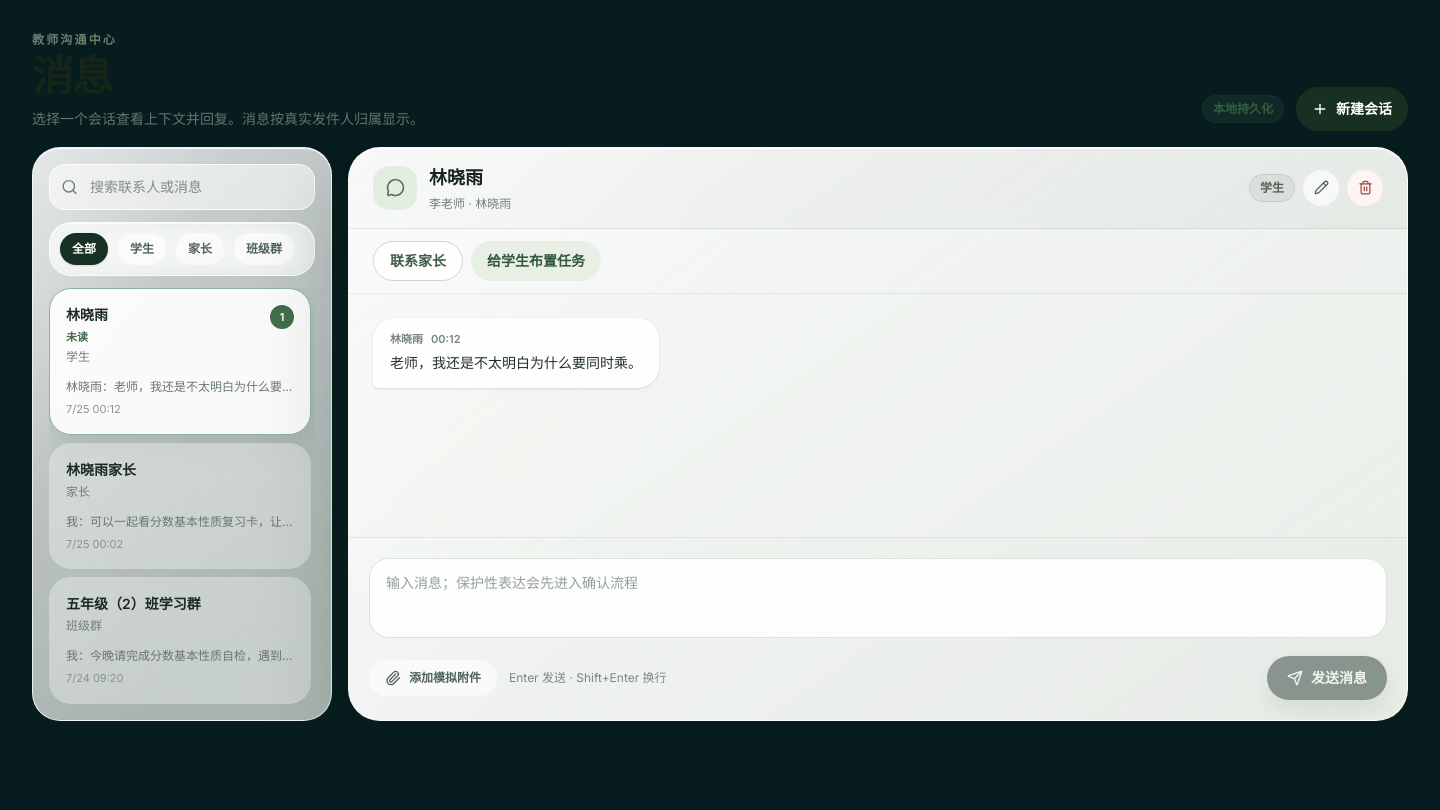
it: MessagesPage › shows and removes a local simulated attachment preview
Click the button "添加模拟附件".
click(433, 678)  # box [369,660,497,696]
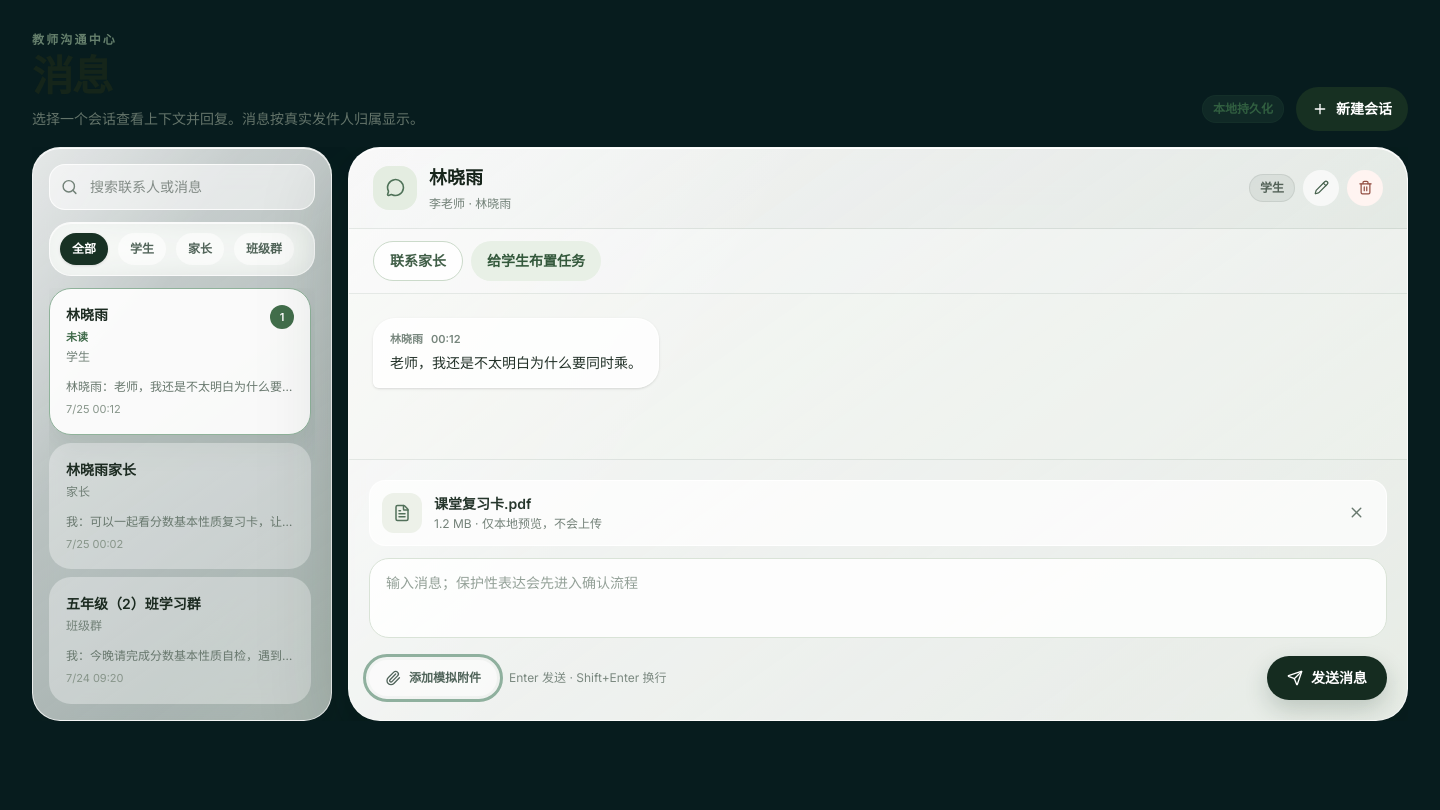
Result: the text "课堂复习卡.pdf" is shown at [434,495,531,512]
Result: the text "仅本地预览，不会上传" is shown at [482,516,602,531]
Click the button named "移除模拟附件".
click(1356, 513)  # box [1338,495,1374,531]
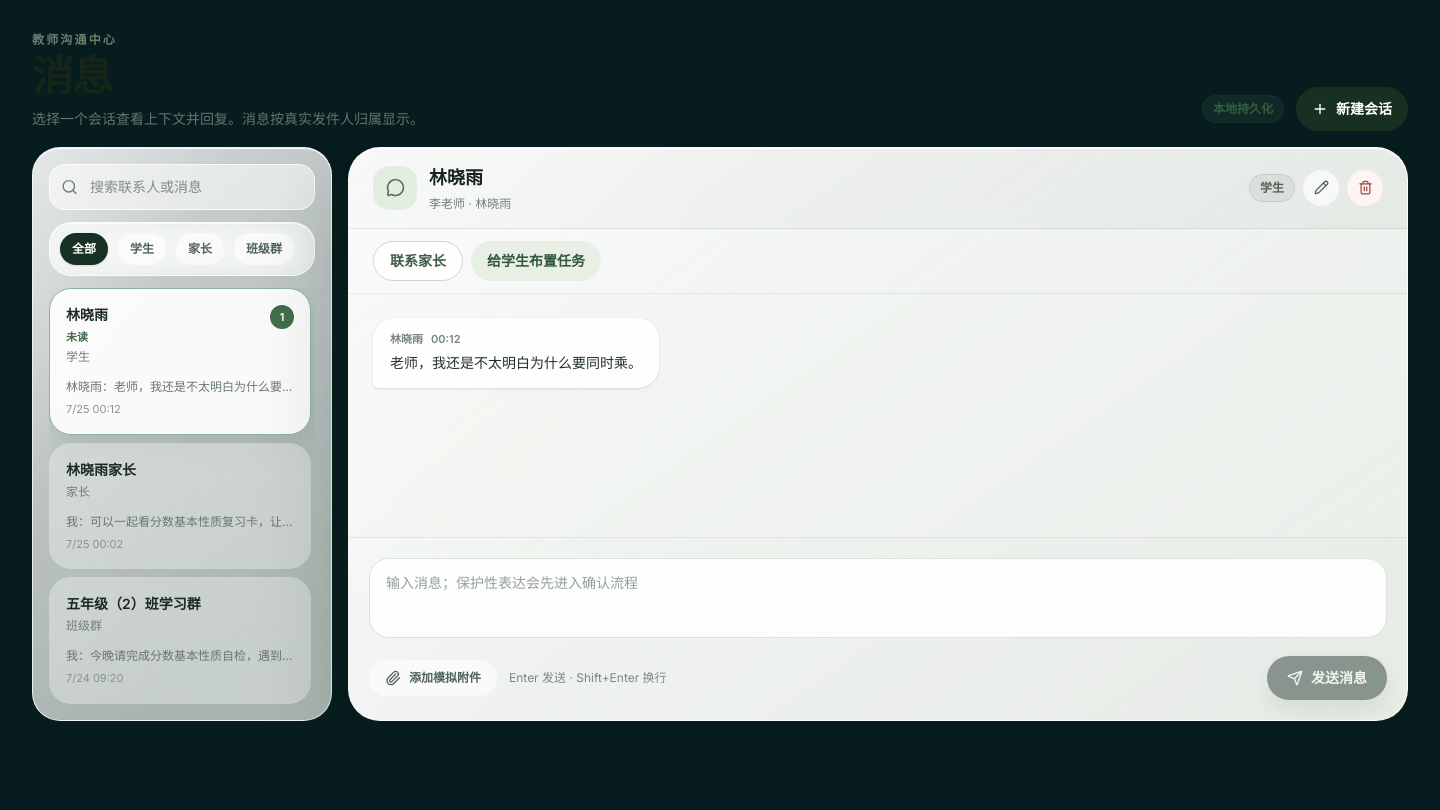
Result: the text "课堂复习卡.pdf" is gone
